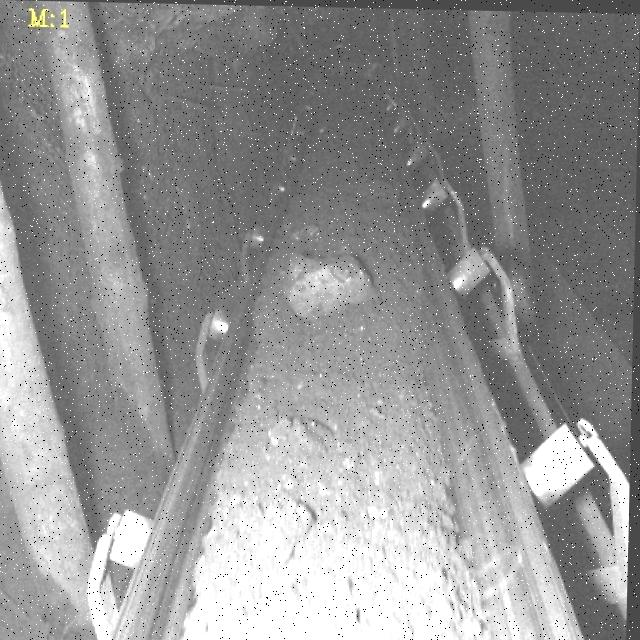large_sized_coal: (282, 245, 375, 317)
